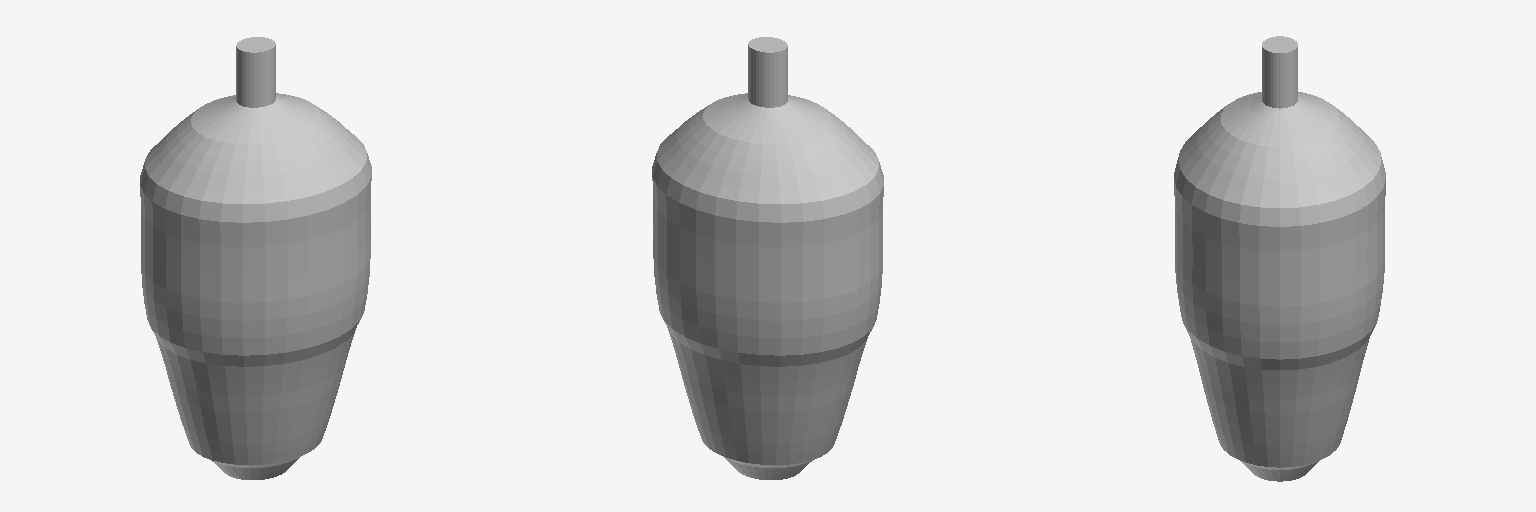
The model's file is torso.obj.
3 renders of one model, left to right at view 1: azimuth 30°, elevation 25°; view 2: azimuth 150°, elevation 25°; view 3: azimuth 270°, elevation 25°, orthographic.
Parts seen in each view (by area): view 1: Círculo.005_Círculo.010; view 2: Círculo.005_Círculo.010; view 3: Círculo.005_Círculo.010.
Part boxes in pixels (x1,y1,x2,y2): Círculo.005_Círculo.010: (140, 37, 371, 479); Círculo.005_Círculo.010: (652, 37, 883, 479); Círculo.005_Círculo.010: (1174, 36, 1385, 481).
Size of the model in its own units: 4.02 by 7.84 by 3.58.